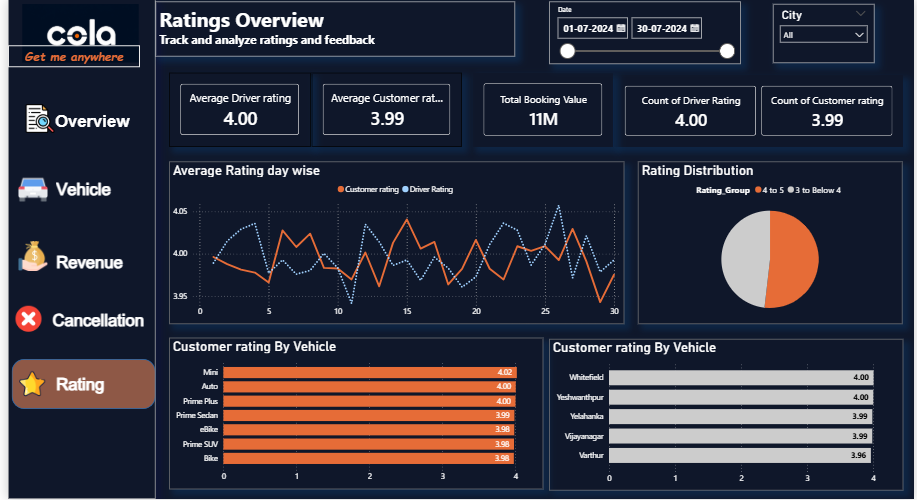

The page's visual inventory and layout, read from the dashboard file:
{"tool":"powerbi","page":{"name":"Rating","canvas":[1450,800],"ordinal":4},"visuals":[{"type":"shape","box":[0,0,236,800],"z":0},{"type":"textbox","box":[58.3,176.7,153.3,53.3],"z":1000},{"type":"image","box":[28.3,168.3,46.7,46.7],"z":2000},{"type":"textbox","box":[71.7,280,138.3,55],"z":3000},{"type":"image","box":[16.7,265,48.3,78.3],"z":4000},{"type":"textbox","box":[71.7,395,138.3,55],"z":5000},{"type":"image","box":[15,371.7,48.3,78.3],"z":6000},{"type":"textbox","box":[65,490,163.3,51.7],"z":7000},{"type":"image","box":[11.7,478.3,41.7,66.7],"z":8000},{"type":"image","box":[10,8.4,211.7,93.3],"z":9000},{"type":"textbox","box":[0,73.4,211.7,36.7],"z":10000},{"type":"shape","box":[6,576,230,80],"z":11000},{"type":"cardVisual","fields":{"Data":["Avg(July.Driver_Ratings)"]},"box":[258,118,226,118],"z":12000},{"type":"cardVisual","fields":{"Data":["Avg(July.Customer_Rating)"]},"box":[486,118,240,118],"z":13000},{"type":"cardVisual","fields":{"Data":["Sum(July.Booking_Value)"]},"box":[744,118,224,118],"z":14000},{"type":"cardVisual","fields":{"Data":["Avg(July.Driver_Ratings)","Avg(July.Customer_Rating)"]},"box":[970,122,462,114],"z":15000},{"type":"slicer","fields":{"Values":["July.Date"]},"box":[866.7,3.3,306.7,100],"z":16000},{"type":"slicer","fields":{"Values":["July.Pickup_Location"]},"box":[1224,8,162,94],"z":17000},{"type":"textbox","box":[235,3.3,575,88.3],"z":18000},{"type":"lineChart","title":"Average Rating day wise","fields":{"Category":["July.Date.Variation.Date Hierarchy.Day"],"Y":["Avg(July.Customer_Rating)","Avg(July.Driver_Ratings)"]},"box":[258,260,728,260],"z":19000},{"type":"clusteredBarChart","title":"Customer rating By Vehicle ","fields":{"Category":["July.Vehicle_Type"],"Y":["Avg(July.Customer_Rating)"]},"box":[258,542,598,242],"z":20000},{"type":"clusteredBarChart","title":"Customer rating By Vehicle ","fields":{"Category":["July.Pickup_Location"],"Y":["Avg(July.Customer_Rating)"]},"box":[866,544,566,242],"z":21000},{"type":"pieChart","fields":{"Category":["July.Rating_Group"],"Y":["CountNonNull(July.Rating_Group)"]},"box":[1008.3,260,423.3,260],"z":22000},{"type":"textbox","box":[0,684,230,116],"z":23000},{"type":"textbox","box":[72.3,591,160,51.7],"z":24000},{"type":"image","box":[17.3,582.7,41.7,66.7],"z":25000}]}

Visuals, with their boxes on the page's 1450x800 design canvas (x1, y1, x2, y2). These are canvas units, not pixel positions in the 917x500 screenshot, which may show the page scaled, cropped or inside an application window:
shape: bbox=[0, 0, 236, 800]
textbox: bbox=[58, 177, 212, 230]
image: bbox=[28, 168, 75, 215]
textbox: bbox=[72, 280, 210, 335]
image: bbox=[17, 265, 65, 343]
textbox: bbox=[72, 395, 210, 450]
image: bbox=[15, 372, 63, 450]
textbox: bbox=[65, 490, 228, 542]
image: bbox=[12, 478, 53, 545]
image: bbox=[10, 8, 222, 102]
textbox: bbox=[0, 73, 212, 110]
shape: bbox=[6, 576, 236, 656]
cardVisual - Avg(July.Driver_Ratings): bbox=[258, 118, 484, 236]
cardVisual - Avg(July.Customer_Rating): bbox=[486, 118, 726, 236]
cardVisual - Sum(July.Booking_Value): bbox=[744, 118, 968, 236]
cardVisual - Avg(July.Driver_Ratings) x Avg(July.Customer_Rating): bbox=[970, 122, 1432, 236]
slicer - July.Date: bbox=[867, 3, 1173, 103]
slicer - July.Pickup_Location: bbox=[1224, 8, 1386, 102]
textbox: bbox=[235, 3, 810, 92]
"Average Rating day wise" lineChart: bbox=[258, 260, 986, 520]
"Customer rating By Vehicle " clusteredBarChart: bbox=[258, 542, 856, 784]
"Customer rating By Vehicle " clusteredBarChart: bbox=[866, 544, 1432, 786]
pieChart - July.Rating_Group x CountNonNull(July.Rating_Group): bbox=[1008, 260, 1432, 520]
textbox: bbox=[0, 684, 230, 800]
textbox: bbox=[72, 591, 232, 643]
image: bbox=[17, 583, 59, 649]
